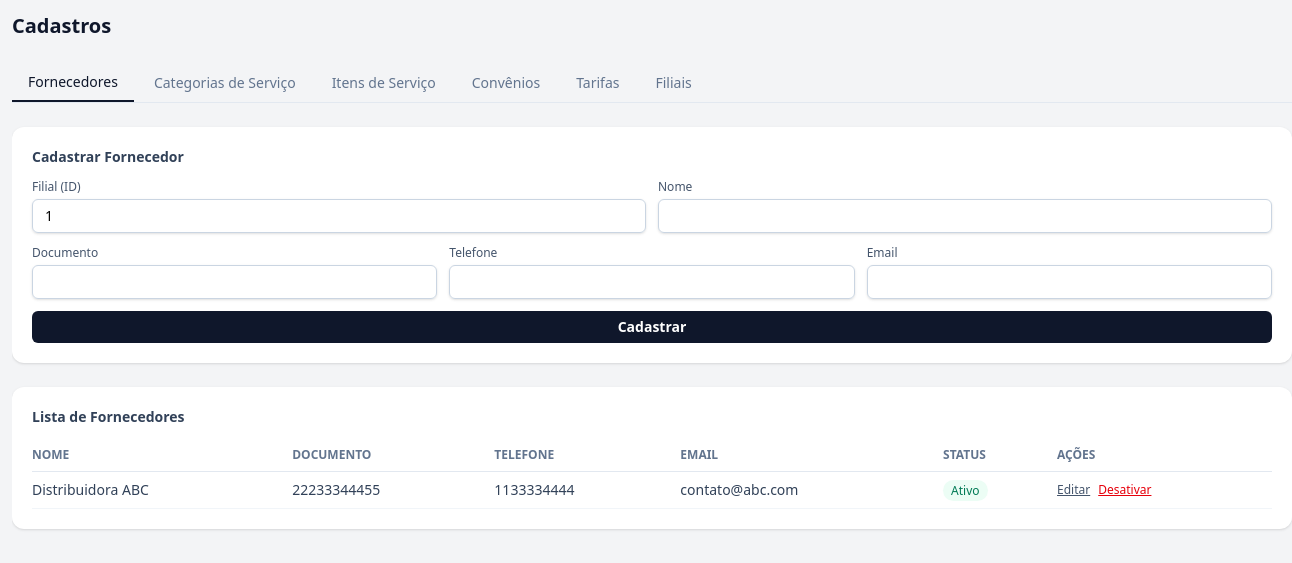
Test case: CadastrosPage › switches tabs and loads the corresponding data
Expected: the text "Distribuidora ABC" is shown, [32,472,292,508]
Click the button "Filiais" at x=674, y=83, box [640,64,708,102]
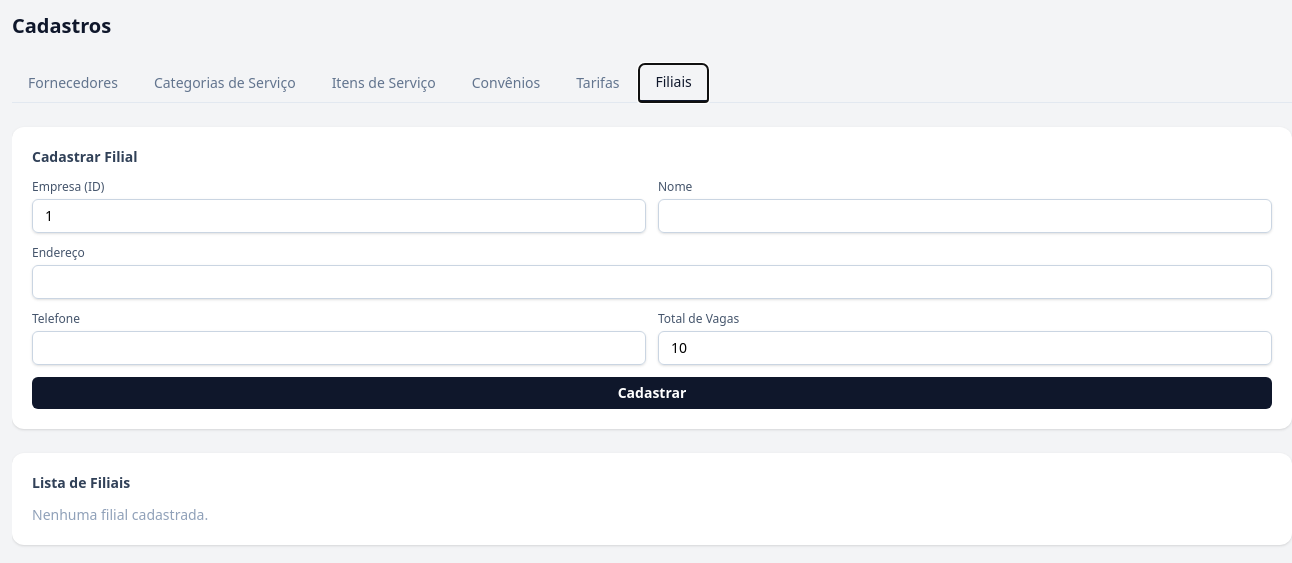
Expected: the heading "Cadastrar Filial" is shown, [32,147,138,167]
